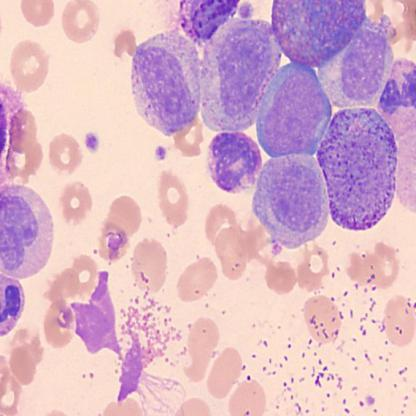Promyelocyte: (254, 58, 330, 158)
